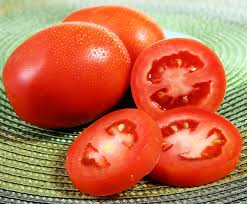tomato: (4, 20, 130, 130)
